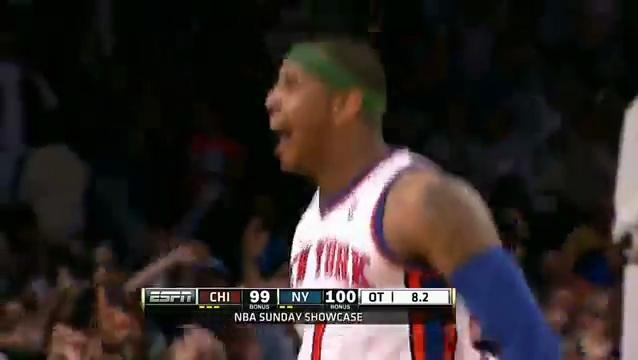Person: (263, 37, 559, 360)
